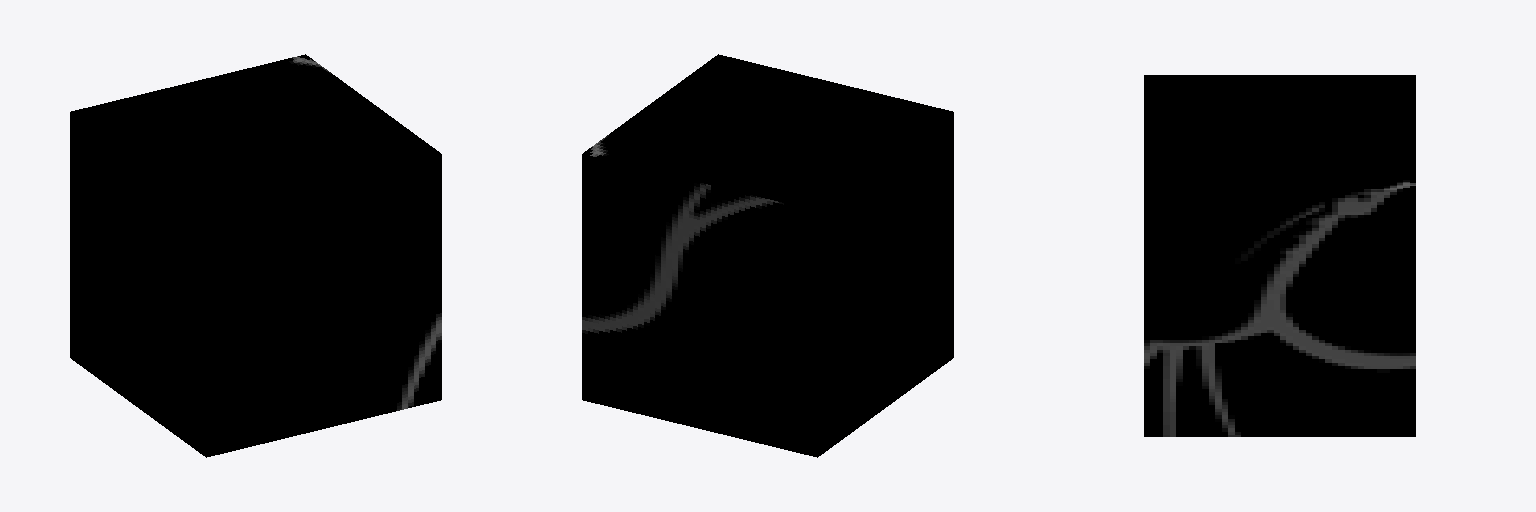
3 renders of one model, left to right at view 1: azimuth 30°, elevation 25°; view 2: azimuth 150°, elevation 25°; view 3: azimuth 270°, elevation 25°, orthographic.
Visible parts, largest first — view 1: Cube; view 2: Cube; view 3: Cube.
Boxes of the visible parts, box(x1,y1,x2,y2) form: Cube: box(70, 54, 441, 457); Cube: box(582, 54, 953, 457); Cube: box(1144, 75, 1415, 436).
Bounding box in the file's own units: 2 × 2 × 2.
Materials: 1 (1 with a texture image).